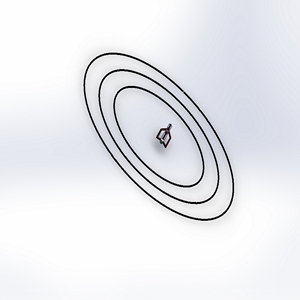circle: (65, 45, 241, 232)
submarine: (149, 117, 177, 153)
